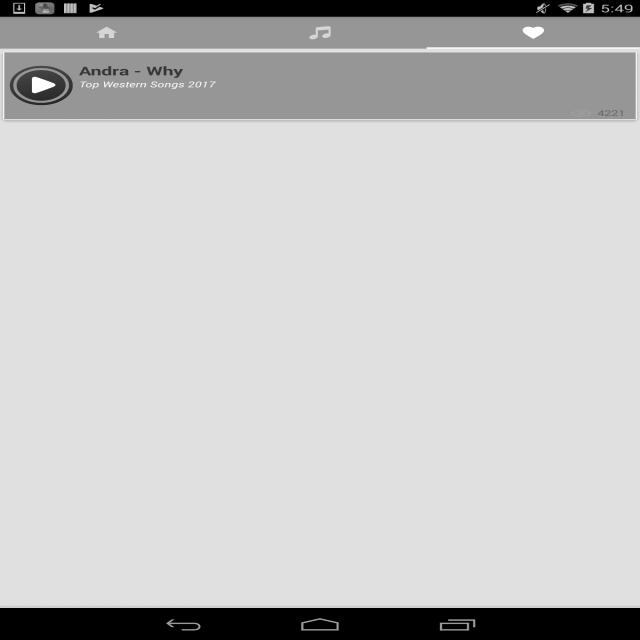ImageView: (10, 66, 74, 106), (213, 47, 427, 49), (307, 24, 333, 40), (94, 24, 119, 40), (521, 24, 546, 40), (571, 108, 592, 120), (426, 47, 640, 48), (0, 47, 213, 48)
TextView: (79, 62, 183, 79), (79, 78, 216, 90), (597, 108, 625, 119)
